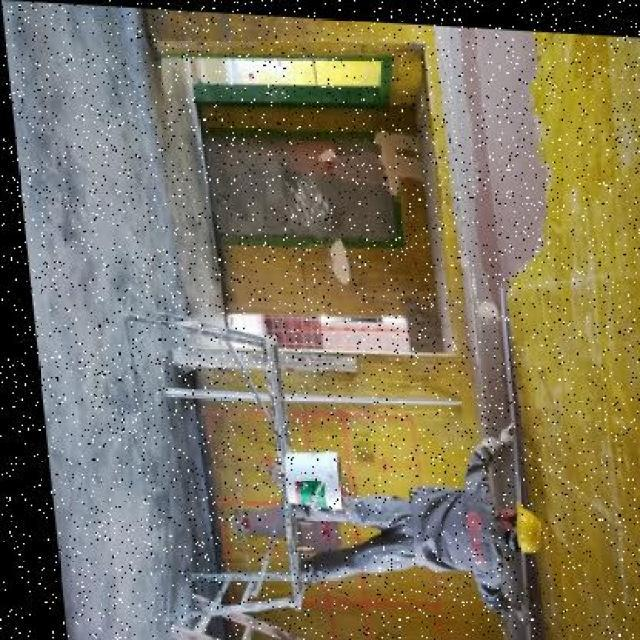helmet: (487, 491, 535, 556)
